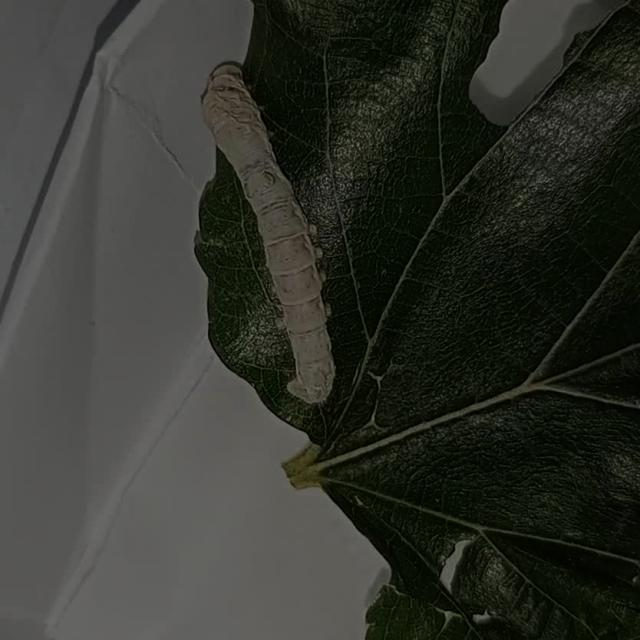Healthy: (184, 40, 372, 410)
